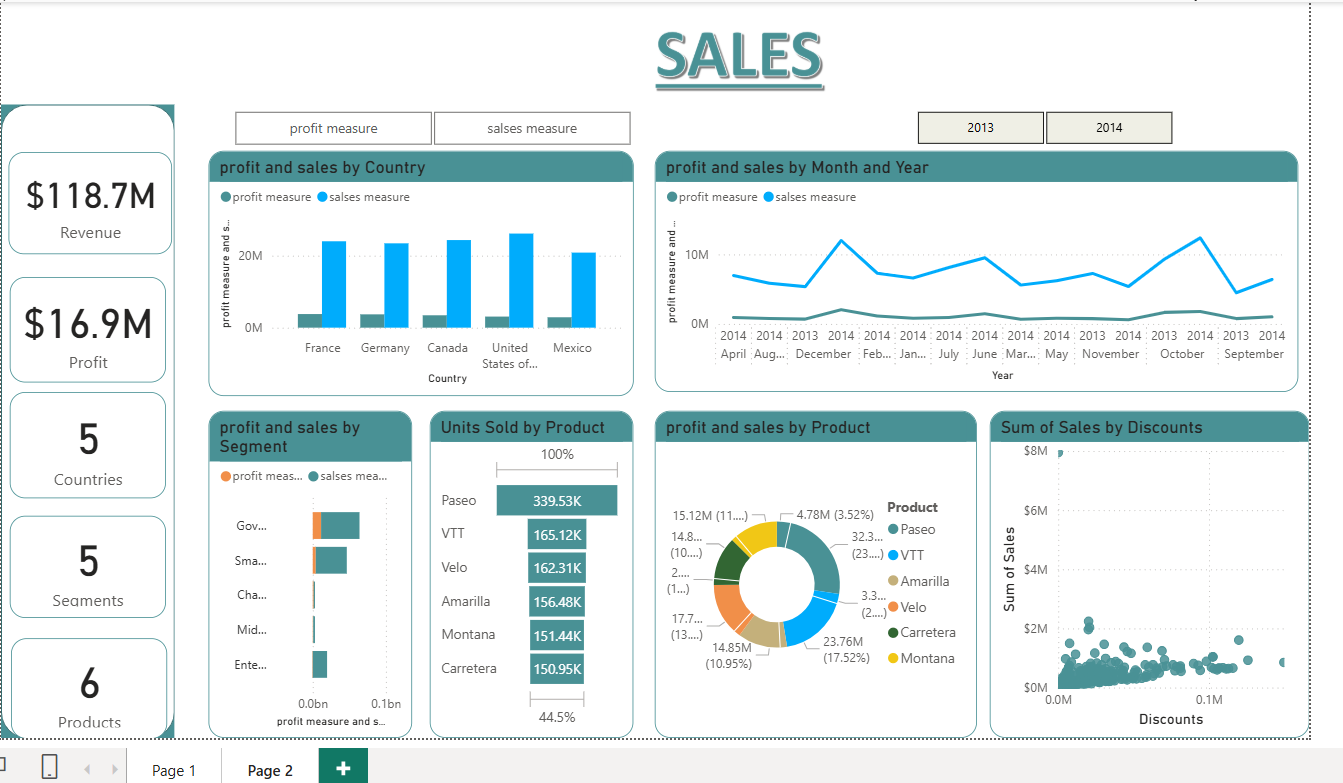

This screenshot's page, from the dashboard's own definition file:
{"tool":"powerbi","page":{"name":"Page 2","canvas":[1280,720],"ordinal":1},"visuals":[{"type":"shape","title":"big size shape","box":[0,100.3,170,620],"z":0},{"type":"card","fields":{"Values":["Count(financials.Segment)"]},"box":[8.3,502.3,153,100.2],"z":1000},{"type":"card","fields":{"Values":["Count(financials.Product)"]},"box":[9.7,621.9,153,98.8],"z":2000},{"type":"card","fields":{"Values":["Sum(financials.Profit)"]},"box":[8.3,268.5,153,103],"z":3000},{"type":"card","fields":{"Values":["Count(financials.Country)"]},"box":[8.3,381.2,153,104.3],"z":4000},{"type":"card","fields":{"Values":["Sum(financials. Sales)"]},"box":[7.3,146.7,160.2,100.3],"z":5000},{"type":"slicer","fields":{"Values":["Parameter 1.Parameter 1"]},"box":[203.1,100.2,436.9,45.9],"z":6000},{"type":"clusteredColumnChart","title":"profit and sales by Country","fields":{"Y":["financials.profit measure","financials.salses measure"],"Category":["financials.Country"]},"box":[203,145.5,415.8,239.7],"z":7000},{"type":"barChart","title":"profit and sales by Segment","fields":{"Y":["financials.profit measure","financials.salses measure"],"Category":["financials.Segment"]},"box":[203,399.9,199.3,320.4],"z":8000},{"type":"funnel","title":" Units Sold by Product","fields":{"Category":["financials.Product"],"Y":["Sum(financials.Units Sold)"]},"box":[419.4,399.9,199.3,320.4],"z":9000},{"type":"lineChart","title":"profit and sales by Month and Year","fields":{"Y":["financials.profit measure","financials.salses measure"],"Category":["financials.Month Name","financials.Year"]},"box":[639.5,145.5,629.8,236],"z":10000},{"type":"donutChart","title":"profit and sales by Product","fields":{"Y":["financials.profit measure","financials.salses measure"],"Category":["financials.Product"]},"box":[639.5,399.9,315.5,320.4],"z":11000},{"type":"scatterChart","fields":{"X":["financials.Discounts"],"Y":["Sum(financials. Sales)"]},"box":[967.3,399.9,313,320.4],"z":12000},{"type":"slicer","fields":{"Values":["financials.Year"]},"box":[870.7,100.3,299.6,45.2],"z":13000},{"type":"image","box":[402.3,0,638.3,100.3],"z":14000}]}

Visuals, with their boxes on the page's 1280x720 design canvas (x1, y1, x2, y2). These are canvas units, not pixel positions in the 1343x783 screenshot, which may show the page scaled, cropped or inside an application window:
"big size shape" shape: <region>0, 100, 170, 720</region>
card - Count(financials.Segment): <region>8, 502, 161, 602</region>
card - Count(financials.Product): <region>10, 622, 163, 721</region>
card - Sum(financials.Profit): <region>8, 268, 161, 372</region>
card - Count(financials.Country): <region>8, 381, 161, 486</region>
card - Sum(financials. Sales): <region>7, 147, 168, 247</region>
slicer - Parameter 1.Parameter 1: <region>203, 100, 640, 146</region>
"profit and sales by Country" clusteredColumnChart: <region>203, 146, 619, 385</region>
"profit and sales by Segment" barChart: <region>203, 400, 402, 720</region>
" Units Sold by Product" funnel: <region>419, 400, 619, 720</region>
"profit and sales by Month and Year" lineChart: <region>640, 146, 1269, 382</region>
"profit and sales by Product" donutChart: <region>640, 400, 955, 720</region>
scatterChart - financials.Discounts x Sum(financials. Sales): <region>967, 400, 1280, 720</region>
slicer - financials.Year: <region>871, 100, 1170, 146</region>
image: <region>402, 0, 1041, 100</region>
